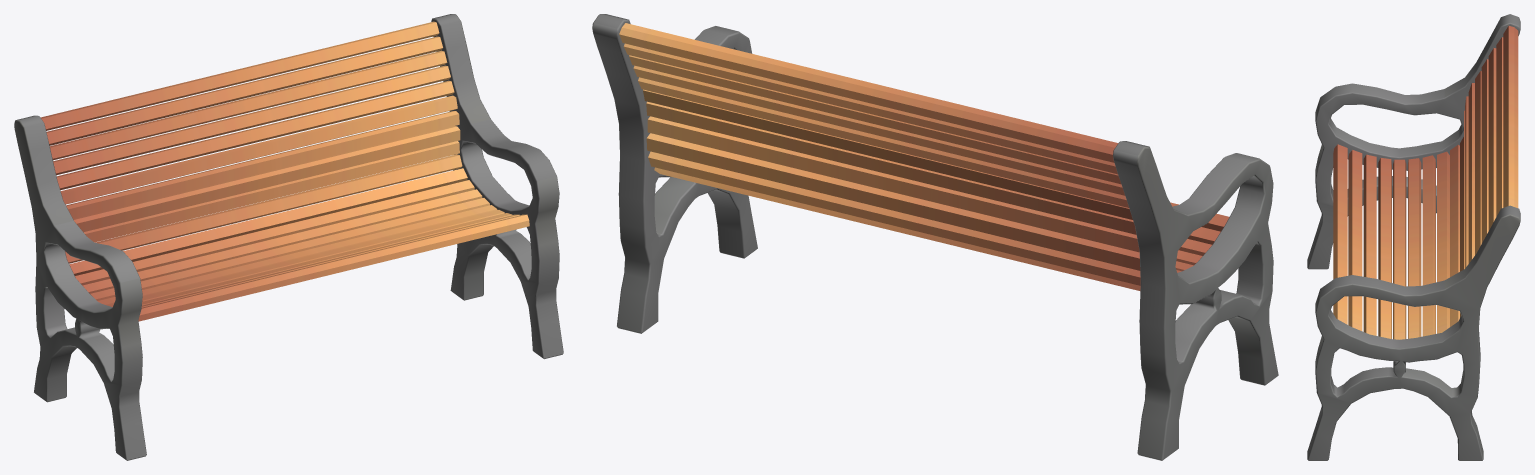
Rendered from Bench.FBX.
3 views of the same model, side by side, from view 1: azimuth 30°, elevation 25°; view 2: azimuth 150°, elevation 25°; view 3: azimuth 270°, elevation 25° (orthographic). The views are drawn at different scales.
Parts seen in each view (by area): view 1: Bench; view 2: Bench; view 3: Bench.
Part boxes in pixels (box(x1,y1,x2,y2)): Bench: box(14, 14, 563, 460); Bench: box(592, 14, 1278, 460); Bench: box(1307, 14, 1520, 460).
Size of the model in its own units: 105 by 60.11 by 47.01.
